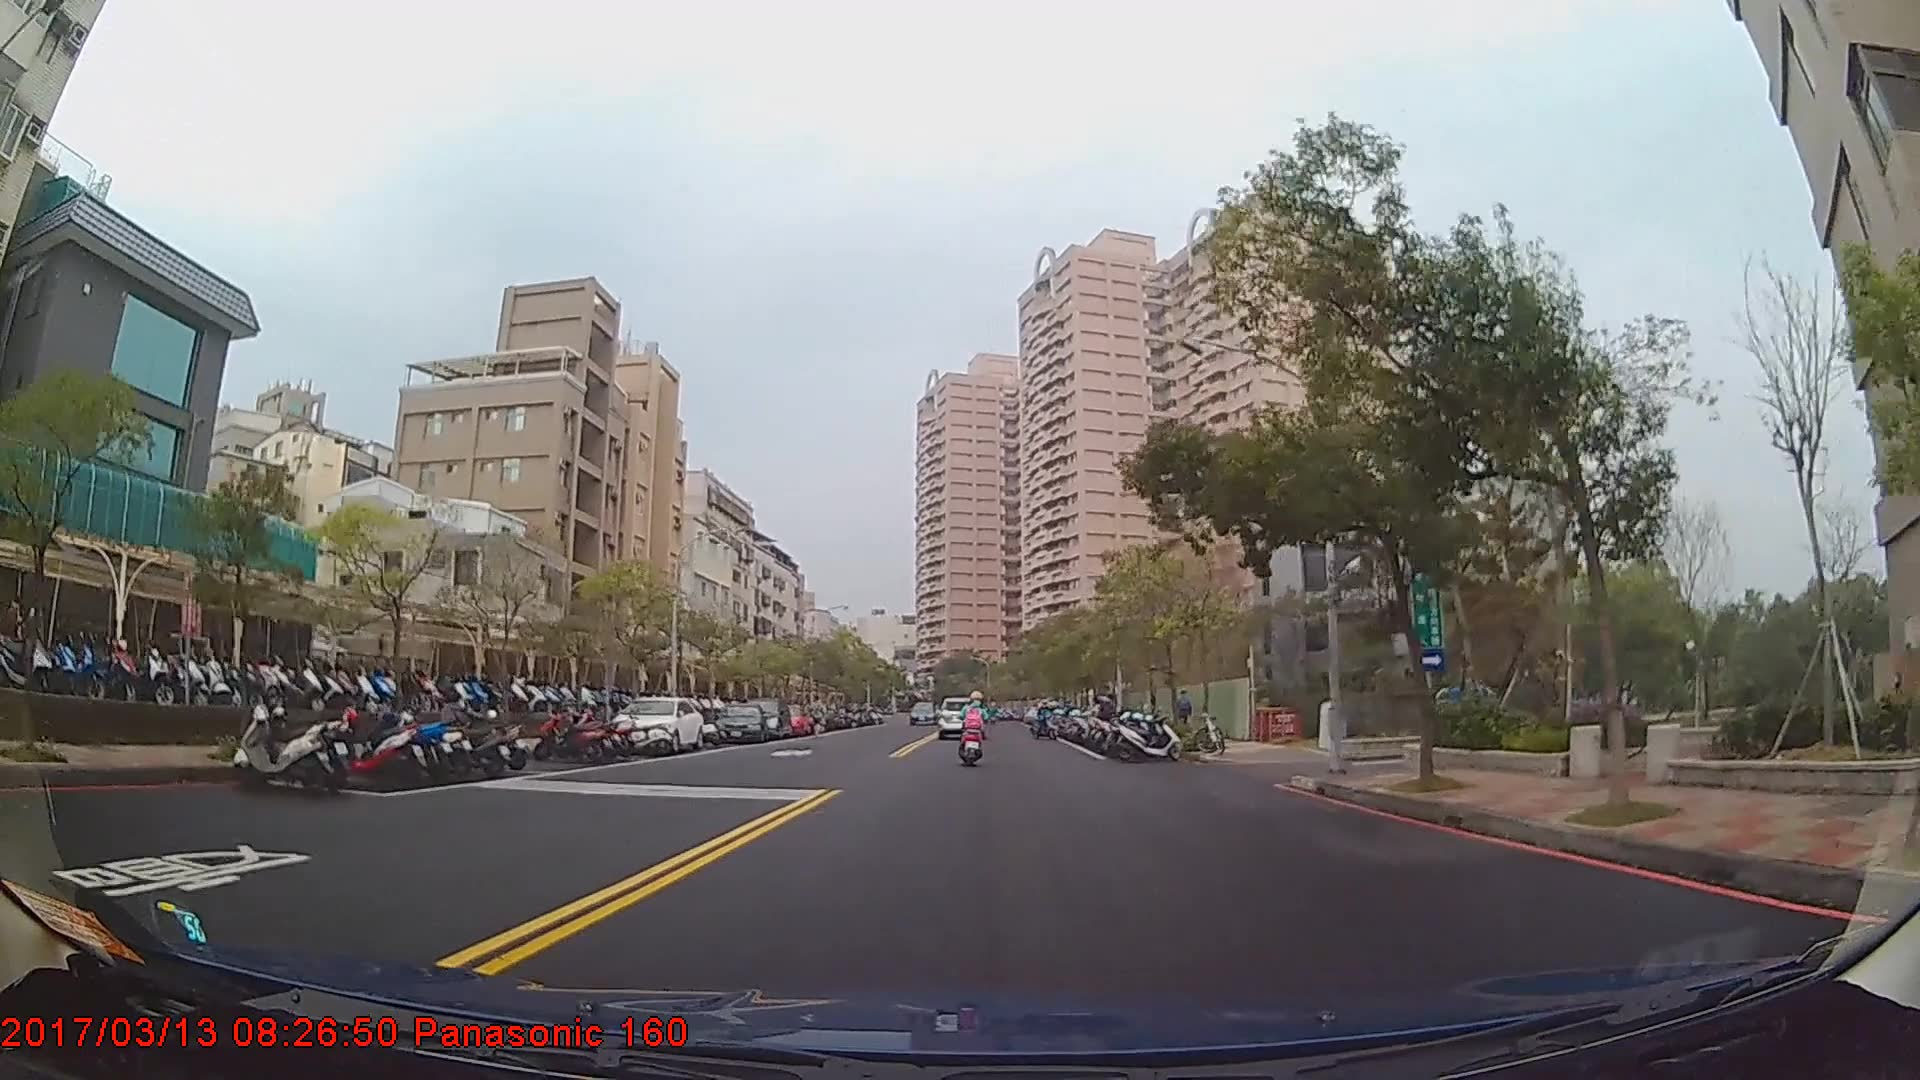pedestrian: (1174, 688, 1194, 739)
rider: (963, 689, 991, 761)
vehicle: (606, 694, 704, 752), (711, 700, 767, 742), (739, 695, 790, 740), (935, 694, 985, 739), (908, 700, 936, 724)
